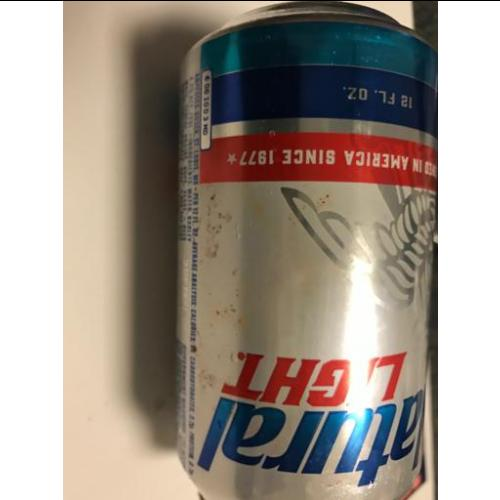metal: (175, 1, 437, 500)
